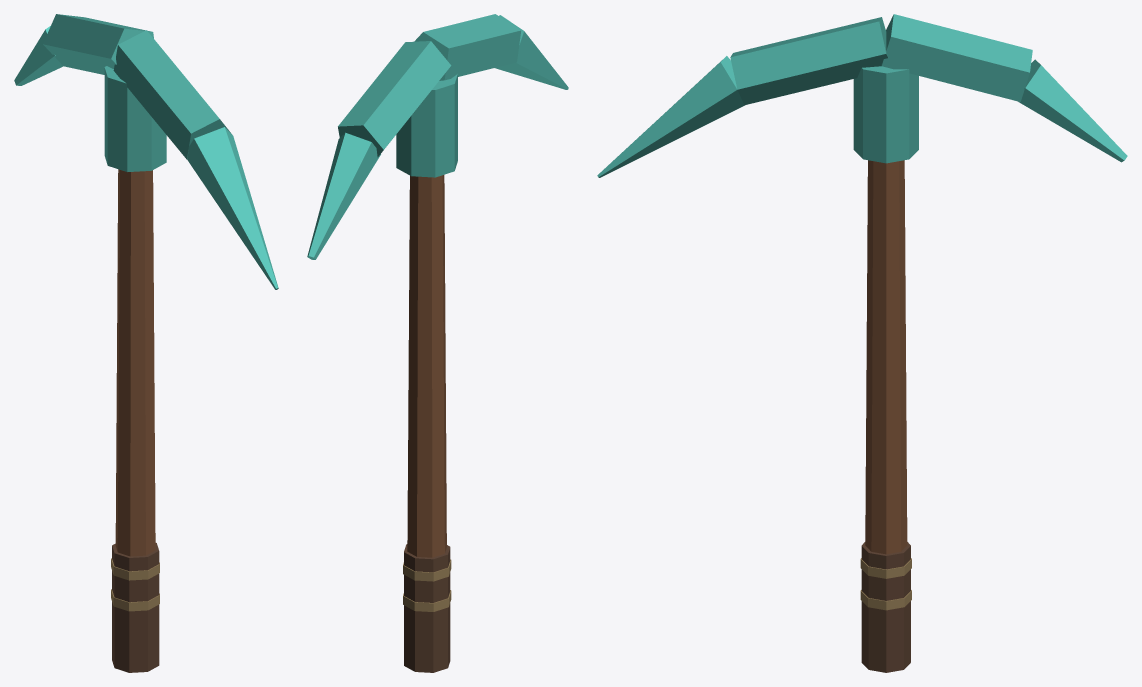
The model's file is tool_pick_alloy.glb.
3 renders of one model, left to right at view 1: azimuth 30°, elevation 25°; view 2: azimuth 150°, elevation 25°; view 3: azimuth 270°, elevation 25°, orthographic. The views are drawn at different scales.
Parts seen in each view (by area): view 1: tool_pick_alloy; view 2: tool_pick_alloy; view 3: tool_pick_alloy.
Part boxes in pixels (x1=…): tool_pick_alloy: x1=14, y1=14, x2=278, y2=672; tool_pick_alloy: x1=307, y1=14, x2=568, y2=672; tool_pick_alloy: x1=597, y1=14, x2=1127, y2=672.
Size of the model in its own units: 0.066 by 0.7166 by 0.5344.
